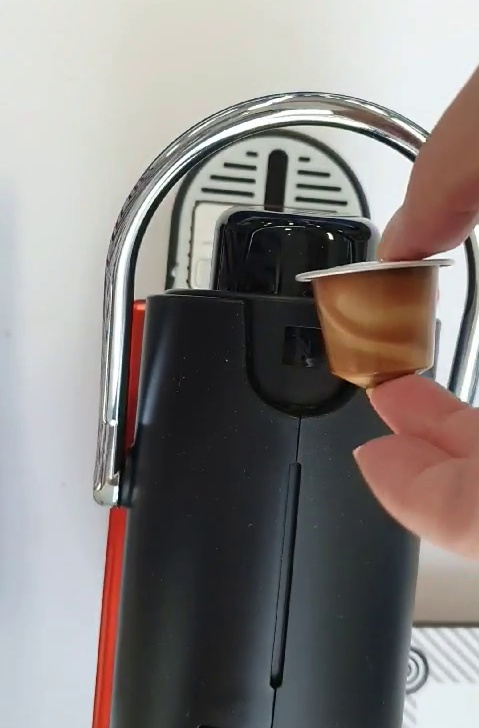capsule_12: (294, 253, 449, 394)
